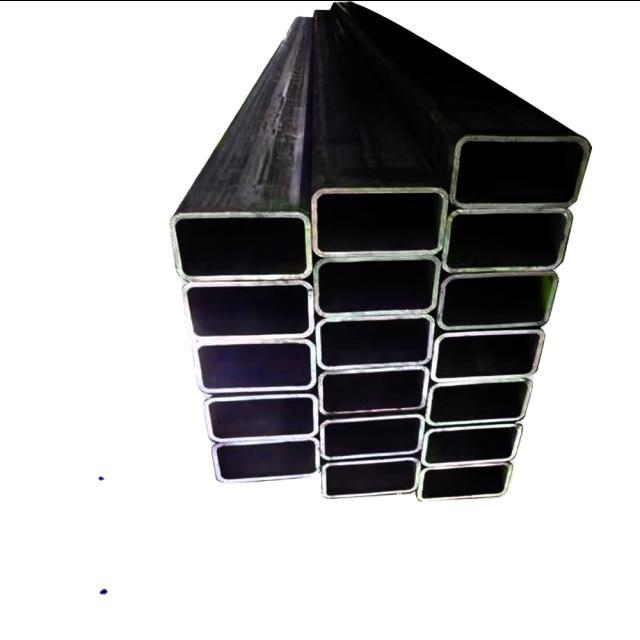Dry Waste: (164, 0, 600, 529)
